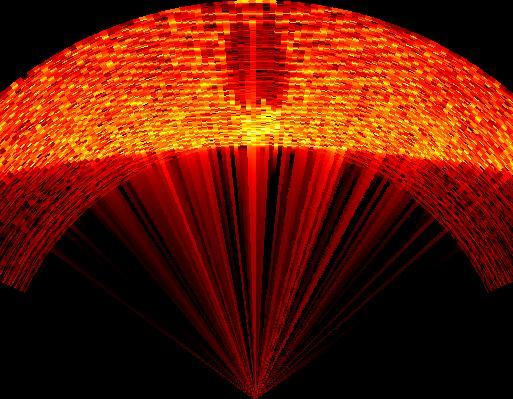box_crate: (225, 7, 295, 110)
